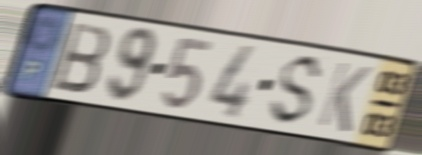4: (207, 41, 256, 123)
5: (157, 35, 219, 112)
9: (103, 25, 157, 108)
B: (49, 19, 113, 96)
K: (314, 58, 374, 136)
S: (266, 51, 328, 129)
